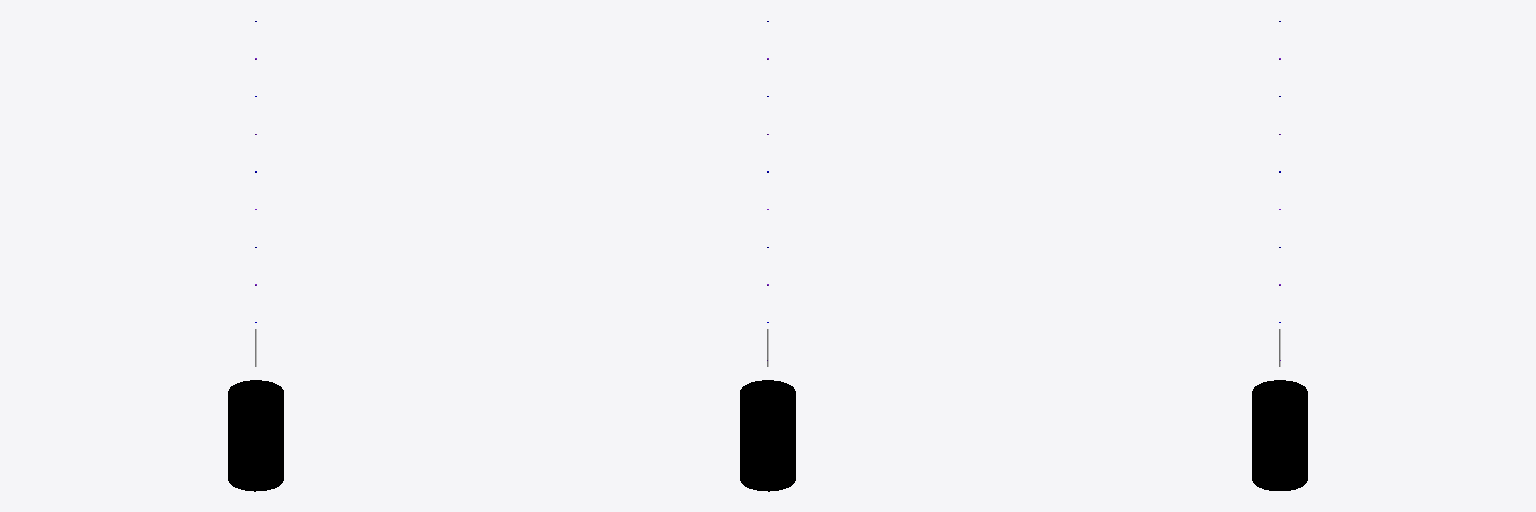
URDF robot description (surgical_robot):
<?xml version="1.0" ?>
<robot name="surgical_robot">

  <material name="black">
    <color rgba="0.0 0.0 0.0 1.0"/>
  </material>
  <material name="gray">
    <color rgba="1.0 1.0 1.0 1.0"/>
  </material>
  <material name="orange">
    <color rgba="1.0 0.4 0.0 1.0"/>
  </material>
  <material name="blue">
    <color rgba = "0 0 0.8 1"/>
  </material>
  <material name="blueviolet">
    <color rgba = "0.54 0.16 0.88 1.0"/>
  </material>

  <material name="Al">
    <mass value="1.0"/>
  </material>

  <!-- Configuration -->
  <!-- DY -->
  <link name="base"/>

  <joint name="fixed" type="fixed">
    <parent link="base"/>
    <child link="actuator_box"/>
  </joint>

  <link name="actuator_box">
    <visual>
      <origin rpy="0.0 0.0 0.0" xyz="0.0 0.0 0.0"/>
      <geometry>
        <cylinder length="0.35" radius="0.10"/>
      </geometry>
      <material name="black"/>
    </visual>
    <collision>
      <origin rpy="0.0 0.0 0.0" xyz="0.0 0.0 0.0"/>
      <geometry>
        <cylinder length="35" radius="10"/>
      </geometry>
    </collision>
  </link>

  <joint name="tool_base" type="fixed">
    <parent link="actuator_box"/>
    <child link="tool_body"/>
  </joint>

  <link name="tool_body">
    <visual>
      <origin rpy="0.0 0.0 0.0" xyz="0.0 0.0 0.35" />
      <geometry>
        <cylinder length="0.15" radius="0.003"/>
      </geometry>
      <material name="gray"/>
    </visual>
    <collision>
      <origin rpy="0.0 0.0 0.0" xyz="0.0 0.0 0.35"/>
      <geometry>
        <cylinder length="0.15" radius="0.003"/>
      </geometry>
    </collision>
  </link>

  <joint name="tilt1" type="revolute">
    <origin rpy="0.0 0.0 0.0" xyz="0.0 0.0 0.15"/>
    <parent link="tool_body"/>
    <child link="seg_tilt1"/>
    <axis xyz="0.0 1.0 0.0"/>
    <limit lower="-0.7854" upper="0.7854" effort="30.0" velocity="3.141"/>
  </joint>

  <link name="seg_tilt1">
    <visual>
      <origin rpy="0.0 0.0 0.0" xyz="0.0 0.0 0.15"/>
      <geometry>
        <cylinder length="0.003" radius="0.003"/>
      </geometry>
      <material name="blueviolet"/>
    </visual>
    <collision>
      <origin rpy="0.0 0.0 0.0" xyz="0.0 0.0 0.15"/>
      <geometry>
        <cylinder length="0.003" radius="0.003"/>
      </geometry>
    </collision>
  </link>

  <joint name="pan1" type="revolute">
    <origin rpy="0.0 0.0 0.0" xyz="0.0 0.0 0.15"/>
    <parent link="seg_tilt1"/>
    <child link="seg_pan1"/>
    <axis xyz="0.0 0.0 1.0"/>
    <limit lower="-0.7854" upper="0.7854" effort="30.0" velocity="3.141"/>
  </joint>

  <link name="seg_pan1">
    <visual>
      <origin rpy="0.0 0.0 0.0" xyz="0.0 0.0 0.15"/>
      <geometry>
        <cylinder length="0.003" radius="0.003"/>
      </geometry>
      <material name="blue"/>
    </visual>
    <collision>
      <origin rpy="0.0 0.0 0.0" xyz="0.0 0.0 0.15"/>
      <geometry>
        <cylinder length="0.003" radius="0.003"/>
      </geometry>
    </collision>
  </link>

  <joint name="tilt2" type="revolute">
    <origin rpy="0.0 0.0 0.0" xyz="0.0 0.0 0.15"/>
    <parent link="seg_pan1"/>
    <child link="seg_tilt2"/>
    <axis xyz="0.0 1.0 0.0"/>
    <limit lower="-0.7854" upper="0.7854" effort="30.0" velocity="3.141"/>
  </joint>

  <link name="seg_tilt2">
    <visual>
      <origin rpy="0.0 0.0 0.0" xyz="0.0 0.0 0.15" />
      <geometry>
        <cylinder length="0.003" radius="0.003"/>
      </geometry>
      <material name="blueviolet"/>
    </visual>
    <collision>
      <origin rpy="0.0 0.0 0.0" xyz="0.0 0.0 0.15"/>
      <geometry>
        <cylinder length="0.003" radius="0.003"/>
      </geometry>
    </collision>
  </link>
  
  <joint name="pan2" type="revolute">
    <origin rpy="0.0 0.0 0.0" xyz="0.0 0.0 0.15"/>
    <parent link="seg_tilt2"/>
    <child link="seg_pan2"/>
    <axis xyz="0.0 0.0 1.0"/>
    <limit lower="-0.7854" upper="0.7854" effort="30.0" velocity="3.141"/>
  </joint>

  <link name="seg_pan2">
    <visual>
      <origin rpy="0.0 0.0 0.0" xyz="0.0 0.0 0.15"/>
      <geometry>
        <cylinder length="0.003" radius="0.003"/>
      </geometry>
      <material name="blue"/>
    </visual>
    <collision>
      <origin rpy="0.0 0.0 0.0" xyz="0.0 0.0 0.15"/>
      <geometry>
        <cylinder length="0.003" radius="0.003"/>
      </geometry>
    </collision>
  </link>
  
  <joint name="tilt3" type="revolute">
    <origin rpy="0.0 0.0 0.0" xyz="0.0 0.0 0.15"/>
    <parent link="seg_pan2"/>
    <child link="seg_tilt3"/>
    <axis xyz="0.0 1.0 0.0"/>
    <limit lower="-0.7854" upper="0.7854" effort="30.0" velocity="3.141"/>
  </joint>

  <link name="seg_tilt3">
    <visual>
      <origin rpy="0.0 0.0 0.0" xyz="0.0 0.0 0.15"/>
      <geometry>
        <cylinder length="0.003" radius="0.003"/>
      </geometry>
      <material name="blueviolet"/>
    </visual>
    <collision>
      <origin rpy="0.0 0.0 0.0" xyz="0.0 0.0 0.15"/>
      <geometry>
        <cylinder length="0.003" radius="0.003"/>
      </geometry>
    </collision>
  </link>

  <joint name="pan3" type="revolute">
    <origin rpy="0.0 0.0 0.0" xyz="0.0 0.0 0.15"/>
    <parent link="seg_tilt3"/>
    <child link="seg_pan3"/>
    <axis xyz="0.0 0.0 1.0"/>
    <limit lower="-0.7854" upper="0.7854" effort="30.0" velocity="3.141"/>
  </joint>

  <link name="seg_pan3">
    <visual>
      <origin rpy="0.0 0.0 0.0" xyz="0.0 0.0 0.15"/>
      <geometry>
        <cylinder length="0.003" radius="0.003"/>
      </geometry>
      <material name="blue"/>
    </visual>
    <collision>
      <origin rpy="0.0 0.0 0.0" xyz="0.0 0.0 0.15"/>
      <geometry>
        <cylinder length="0.003" radius="0.003"/>
      </geometry>
    </collision>
  </link>

  <joint name="tilt4" type="revolute">
    <origin rpy="0.0 0.0 0.0" xyz="0.0 0.0 0.15"/>
    <parent link="seg_pan3"/>
    <child link="seg_tilt4"/>
    <axis xyz="0.0 1.0 0.0"/>
    <limit lower="-0.7854" upper="0.7854" effort="30.0" velocity="3.141"/>
  </joint>

  <link name="seg_tilt4">
    <visual>
      <origin rpy="0.0 0.0 0.0" xyz="0.0 0.0 0.15"/>
      <geometry>
        <cylinder length="0.003" radius="0.003"/>
      </geometry>
      <material name="blueviolet"/>
    </visual>
    <collision>
      <origin rpy="0.0 0.0 0.0" xyz="0.0 0.0 0.15"/>
      <geometry>
        <cylinder length="0.003" radius="0.003"/>
      </geometry>
    </collision>
  </link>

  <joint name="pan4" type="revolute">
    <origin rpy="0.0 0.0 0.0" xyz="0.0 0.0 0.15"/>
    <parent link="seg_tilt4"/>
    <child link="seg_pan4"/>
    <axis xyz="0.0 0.0 1.0"/>
    <limit lower="-0.7854" upper="0.7854" effort="30.0" velocity="3.141"/>
  </joint>

  <link name="seg_pan4">
    <visual>
      <origin rpy="0.0 0.0 0.0" xyz="0.0 0.0 0.15"/>
      <geometry>
        <cylinder length="0.003" radius="0.003"/>
      </geometry>
      <material name="blue"/>
    </visual>
    <collision>
      <origin rpy="0.0 0.0 0.0" xyz="0.0 0.0 0.15"/>
      <geometry>
        <cylinder length="0.003" radius="0.003"/>
      </geometry>
    </collision>
  </link>

  <joint name="tilt5" type="revolute">
    <origin rpy="0.0 0.0 0.0" xyz="0.0 0.0 0.15"/>
    <parent link="seg_pan4"/>
    <child link="seg_tilt5"/>
    <axis xyz="0.0 1.0 0.0"/>
    <limit lower="-0.7854" upper="0.7854" effort="30.0" velocity="3.141"/>
  </joint>

  <link name="seg_tilt5">
    <visual>
      <origin rpy="0.0 0.0 0.0" xyz="0.0 0.0 0.15"/>
      <geometry>
        <cylinder length="0.003" radius="0.003"/>
      </geometry>
      <material name="blueviolet"/>
    </visual>
    <collision>
      <origin rpy="0.0 0.0 0.0" xyz="0.0 0.0 0.15"/>
      <geometry>
        <cylinder length="0.003" radius="0.003"/>
      </geometry>
    </collision>
  </link>

  <joint name="pan5" type="revolute">
    <origin rpy="0.0 0.0 0.0" xyz="0.0 0.0 0.15"/>
    <parent link="seg_tilt5"/>
    <child link="seg_pan5"/>
    <axis xyz="0.0 0.0 1.0"/>
    <limit lower="-0.7854" upper="0.7854" effort="30.0" velocity="3.141"/>
  </joint>

  <link name="seg_pan5">
    <visual>
      <origin rpy="0.0 0.0 0.0" xyz="0.0 0.0 0.15"/>
      <geometry>
        <cylinder length="0.003" radius="0.003"/>
      </geometry>
      <material name="blue"/>
    </visual>
    <collision>
      <origin rpy="0.0 0.0 0.0" xyz="0.0 0.0 0.15"/>
      <geometry>
        <cylinder length="0.003" radius="0.003"/>
      </geometry>
    </collision>
  </link>
  
</robot>

--- Facts derived from the render (not from the file) ---
Views: 3 orthographic renders of the robot side by side, from view 1: azimuth 30°, elevation 25°; view 2: azimuth 150°, elevation 25°; view 3: azimuth 270°, elevation 25°.
Model surgical_robot with 13 links and 12 joints (10 revolute, 2 fixed), rooted at base, posed all joints at 0.
Visible links, largest first — view 1: actuator_box; view 2: actuator_box; view 3: actuator_box.
Link boxes in pixels (x1=…): actuator_box: x1=228, y1=380, x2=283, y2=491; actuator_box: x1=740, y1=380, x2=795, y2=491; actuator_box: x1=1252, y1=380, x2=1307, y2=490.
Bounding box of the posed robot: 0.2 × 0.2 × 1.83 m (x, y, z).
Geometry: primitives only (box / cylinder / sphere), no mesh files.
